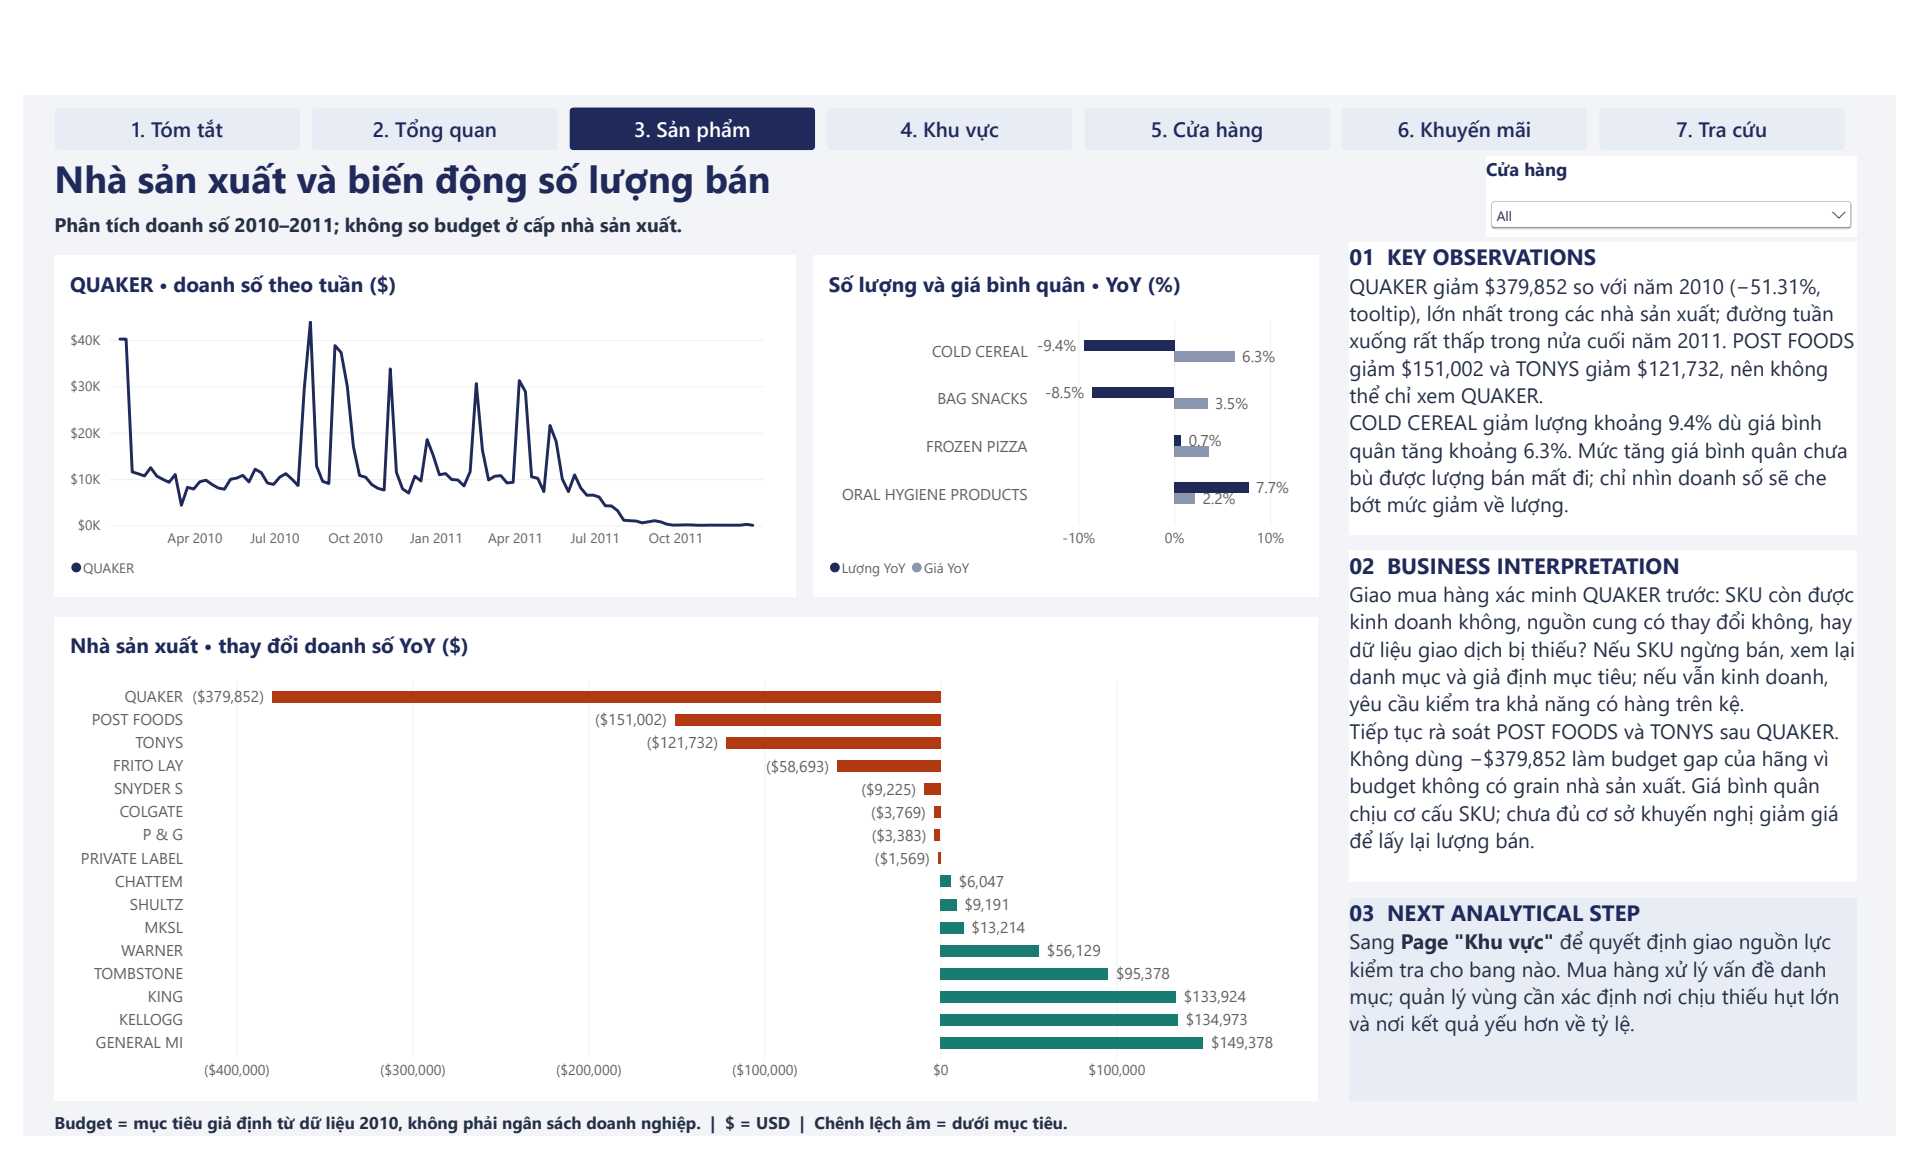

Layout of this report page (visuals, bound fields, positions):
{"tool":"powerbi","page":{"name":"Sản phẩm","canvas":[1920,1140],"ordinal":2},"visuals":[{"type":"textbox","box":[32,118,1436,34],"z":1000},{"type":"lineChart","title":"QUAKER • doanh số theo tuần ($)","fields":{"Category":["Dim_Date.WEEK_END_DATE"],"Series":["Dim_Product.MANUFACTURER"],"Y":["Fact_Transactions.Total Sales"]},"box":[32,164,760,350],"z":1000},{"type":"clusteredBarChart","title":"Số lượng và giá bình quân • YoY (%)","fields":{"Category":["Dim_Category.CATEGORY"],"Y":["Fact_Transactions.Units Change %","Fact_Transactions.Price Change %"]},"box":[810,164,518,350],"z":1000},{"type":"clusteredBarChart","title":"Nhà sản xuất • thay đổi doanh số YoY ($)","fields":{"Category":["Dim_Product.MANUFACTURER"],"Y":["Fact_Transactions.Sales Change"]},"box":[32,534,1296,496],"z":1000},{"type":"textbox","box":[1360,150,520,300],"z":4000},{"type":"textbox","box":[32,1040,1848,30],"z":5000},{"type":"textbox","box":[1360,822,520,208],"z":6000},{"type":"textbox","box":[32,58,1436,60],"z":7000},{"type":"textbox","box":[1360,466,520,340],"z":8000},{"type":"slicer","title":"Cửa hàng","fields":{"Values":["Dim_Store.Store_Label"]},"box":[1500,62,380,82],"z":9000},{"type":"actionButton","box":[296,12,252,44],"z":10000},{"type":"actionButton","box":[1616,12,252,44],"z":11000},{"type":"actionButton","box":[32,1080,300,44],"z":12000},{"type":"actionButton","box":[824,12,252,44],"z":13000},{"type":"actionButton","box":[1088,12,252,44],"z":14000},{"type":"actionButton","box":[1580,1080,300,44],"z":15000},{"type":"actionButton","box":[560,12,252,44],"z":16000},{"type":"actionButton","box":[32,12,252,44],"z":17000},{"type":"actionButton","box":[1352,12,252,44],"z":18000}]}

Visuals, with their boxes in screenshot pixels (x1, y1, x2, y2), scaled from the page's 1920x1140 canvas onto the 1919x1159 screenshot:
textbox: bbox=[32, 120, 1467, 155]
"QUAKER • doanh số theo tuần ($)" lineChart: bbox=[32, 167, 792, 523]
"Số lượng và giá bình quân • YoY (%)" clusteredBarChart: bbox=[810, 167, 1327, 523]
"Nhà sản xuất • thay đổi doanh số YoY ($)" clusteredBarChart: bbox=[32, 543, 1327, 1047]
textbox: bbox=[1359, 152, 1879, 458]
textbox: bbox=[32, 1057, 1879, 1088]
textbox: bbox=[1359, 836, 1879, 1047]
textbox: bbox=[32, 59, 1467, 120]
textbox: bbox=[1359, 474, 1879, 819]
"Cửa hàng" slicer: bbox=[1499, 63, 1879, 146]
actionButton: bbox=[296, 12, 548, 57]
actionButton: bbox=[1615, 12, 1867, 57]
actionButton: bbox=[32, 1098, 332, 1143]
actionButton: bbox=[824, 12, 1075, 57]
actionButton: bbox=[1087, 12, 1339, 57]
actionButton: bbox=[1579, 1098, 1879, 1143]
actionButton: bbox=[560, 12, 812, 57]
actionButton: bbox=[32, 12, 284, 57]
actionButton: bbox=[1351, 12, 1603, 57]
